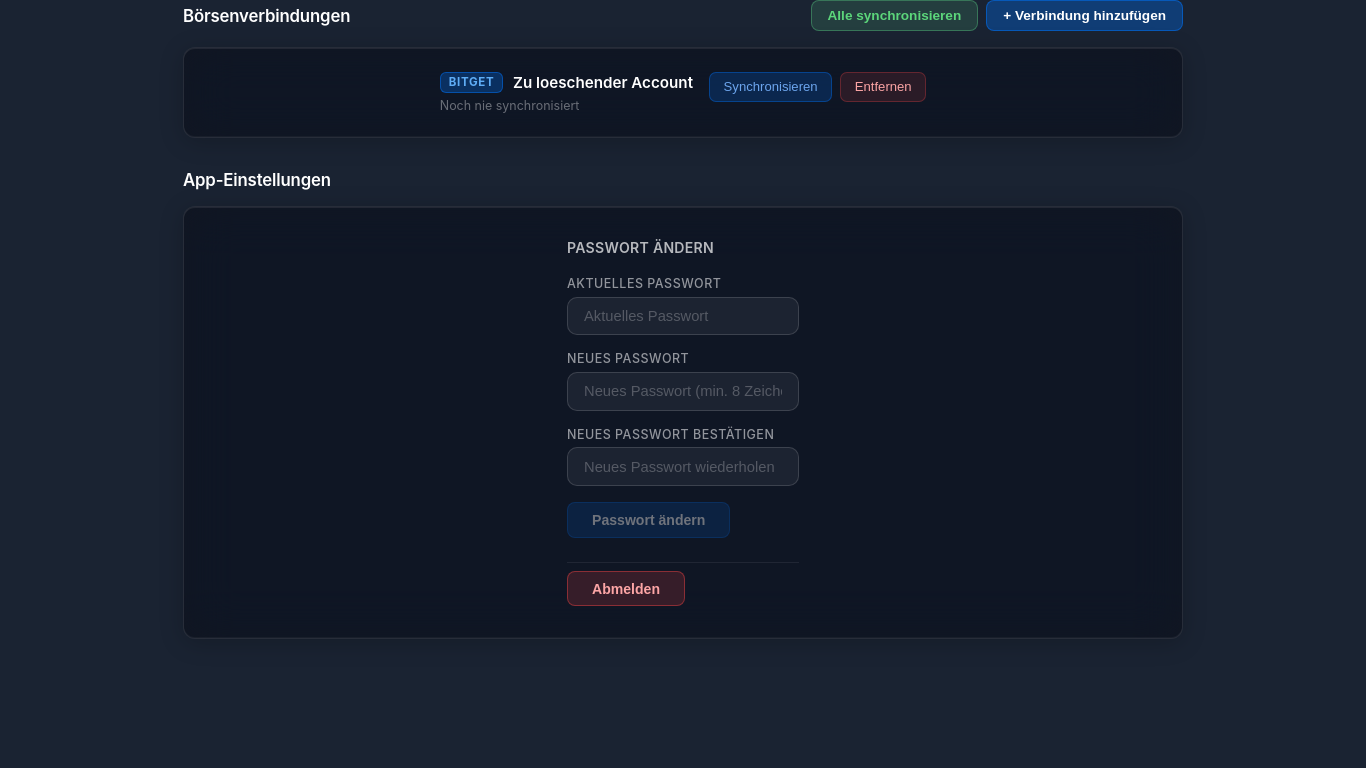
Test: SettingsTab › removes deleted connection from list
This screenshot has width=1366, height=768.
Expected: the text "Zu loeschender Account" is shown, [513,73,693,92]
# Click delete, then confirm
Click the button with aria-label "zu loeschender account entfernen". click: (883, 87)
box: [840,72,926,102]
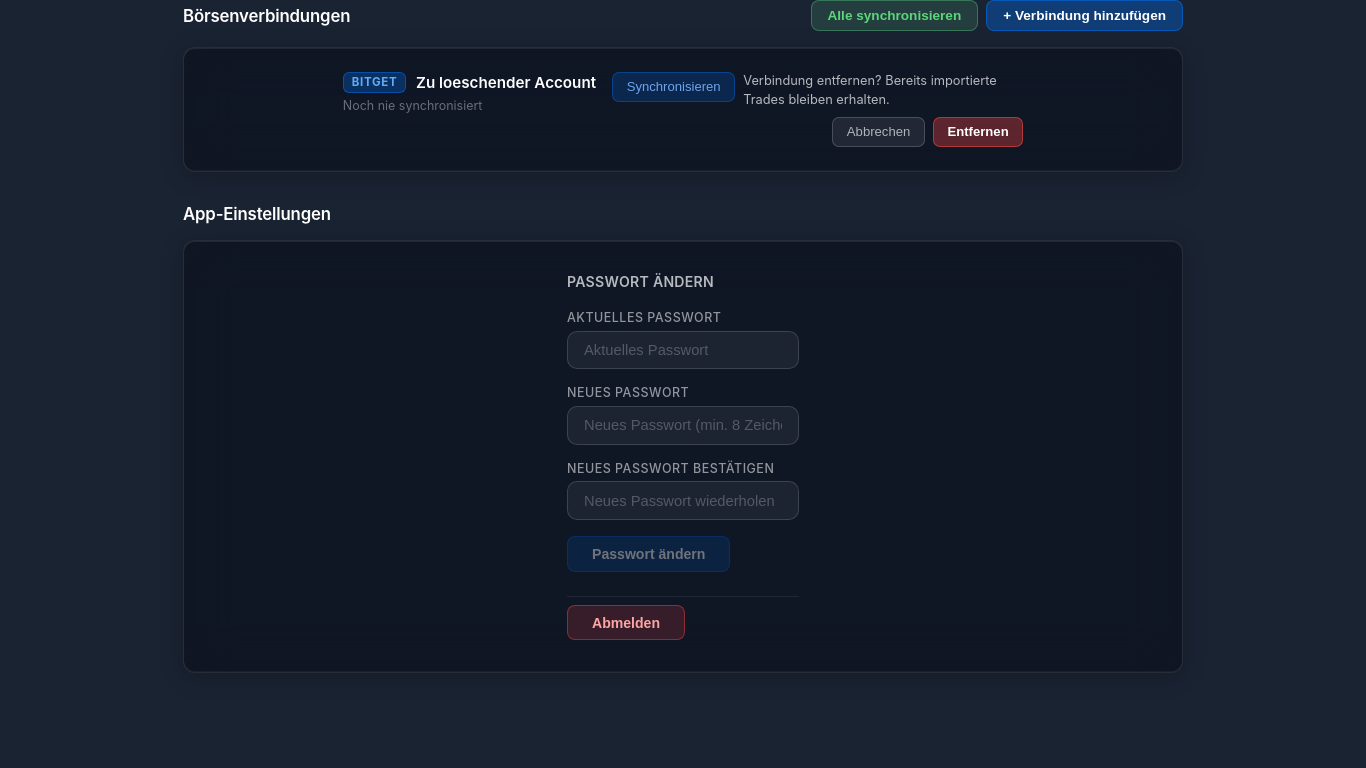
Expected: the dialog is shown, [743,72,1023,147]
# Find confirm delete button (second "Entfernen" button in the dialog)
Click the button "Entfernen". click: (978, 132)
box: [933,118,1023,147]
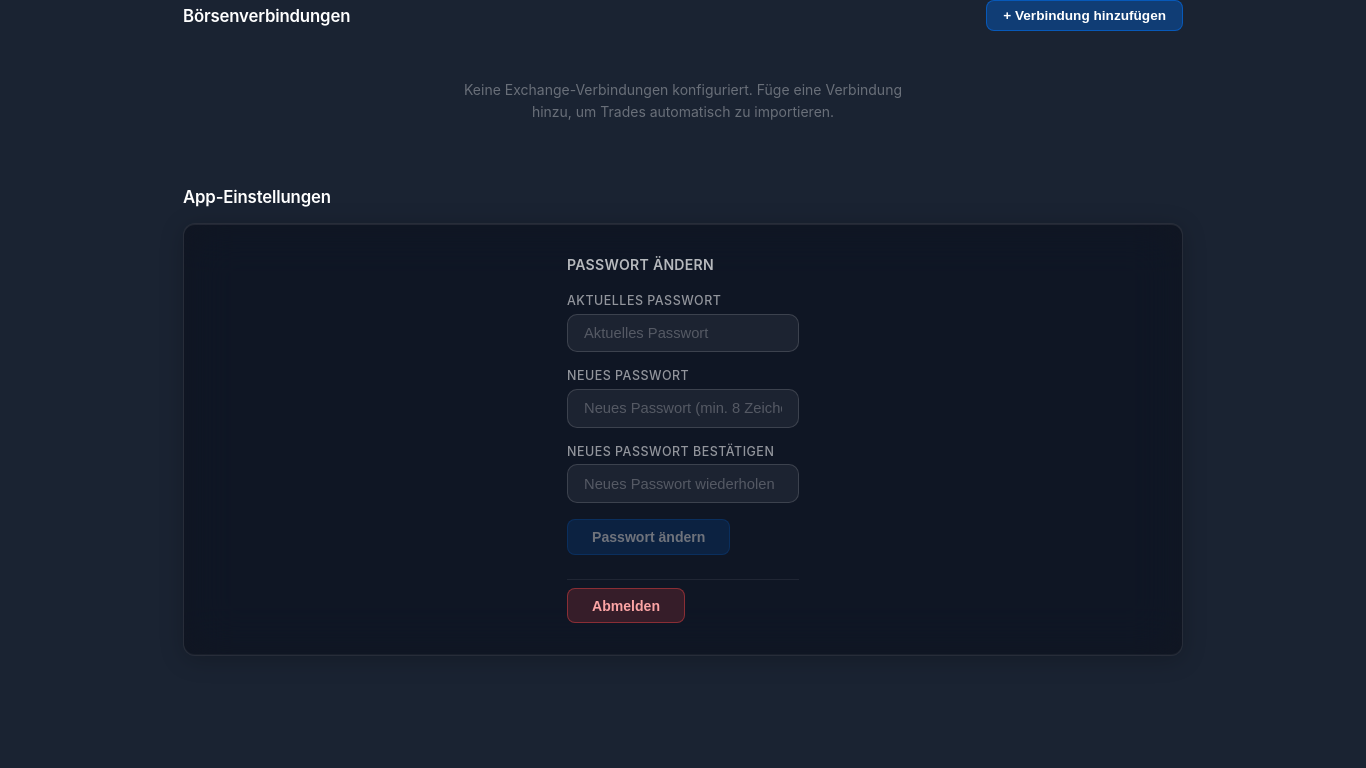
Expected: the text "Zu loeschender Account" is gone
